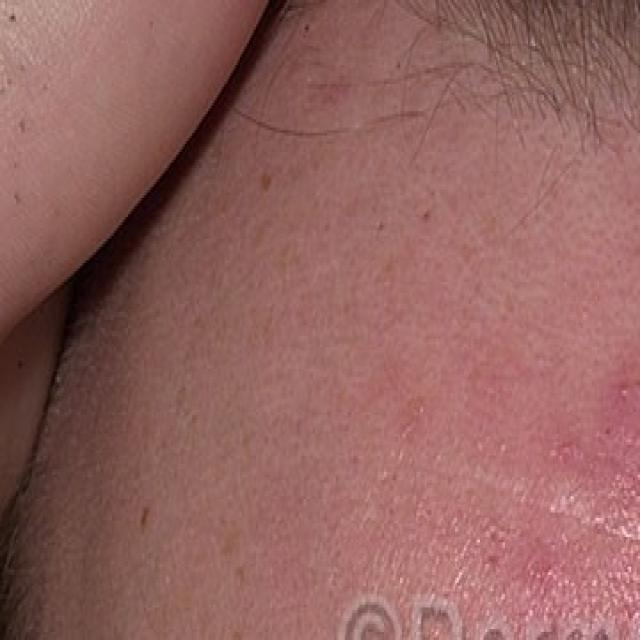Rosacea: (233, 202, 640, 616)
